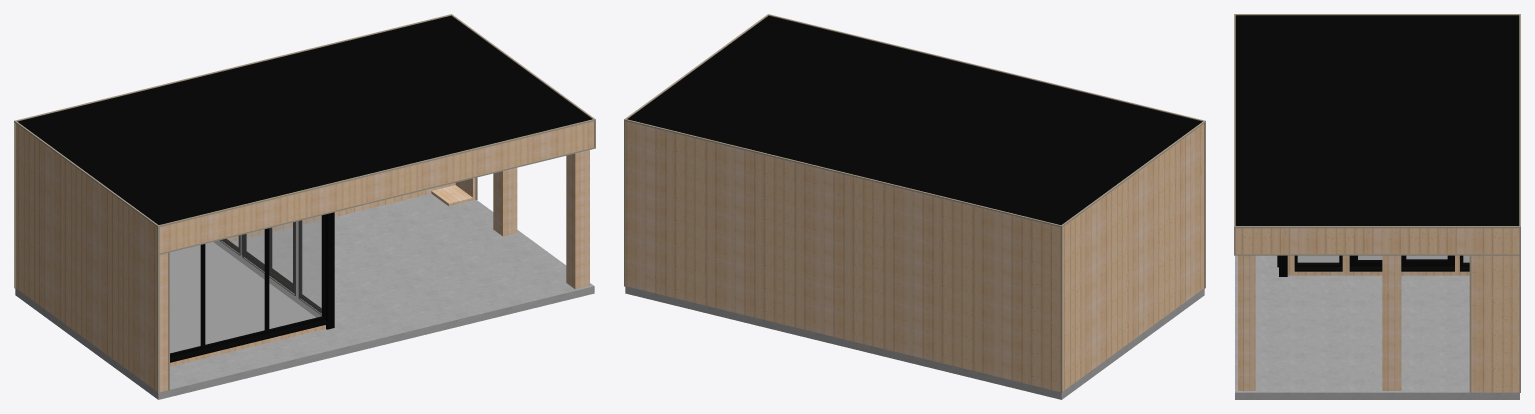
Rendered from NFF-Bigger3.glb.
3 renders of one model, left to right at view 1: azimuth 30°, elevation 25°; view 2: azimuth 150°, elevation 25°; view 3: azimuth 270°, elevation 25°, orthographic.
Visible parts, largest first — view 1: Plane.012; view 2: Plane.012; view 3: Plane.012.
Part boxes in pixels (x1,y1,x2,y2): Plane.012: (14, 14, 595, 399); Plane.012: (624, 14, 1205, 399); Plane.012: (1234, 14, 1520, 399).
Size of the model in its own units: 8.13 by 3.09 by 4.63.
13 materials, 2 textured.
